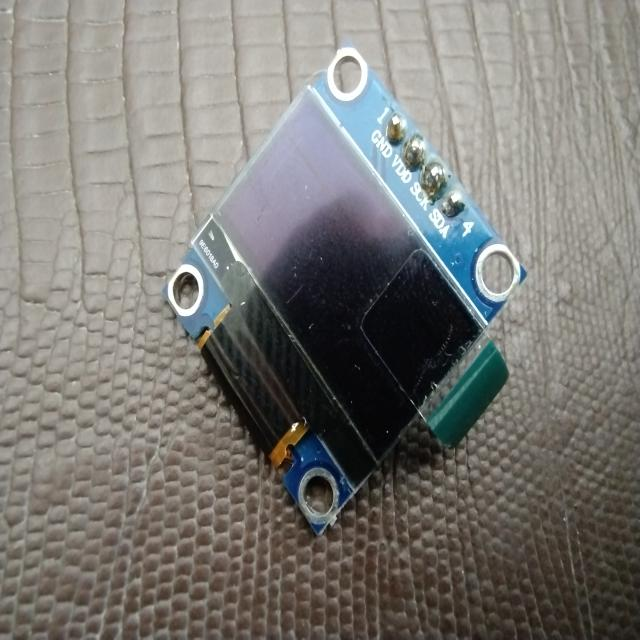oled: (164, 30, 537, 556)
